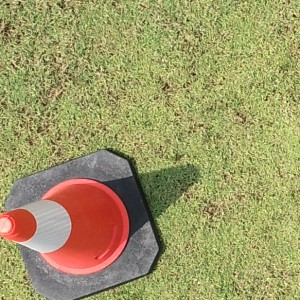traffic cone: (1, 148, 159, 300)
